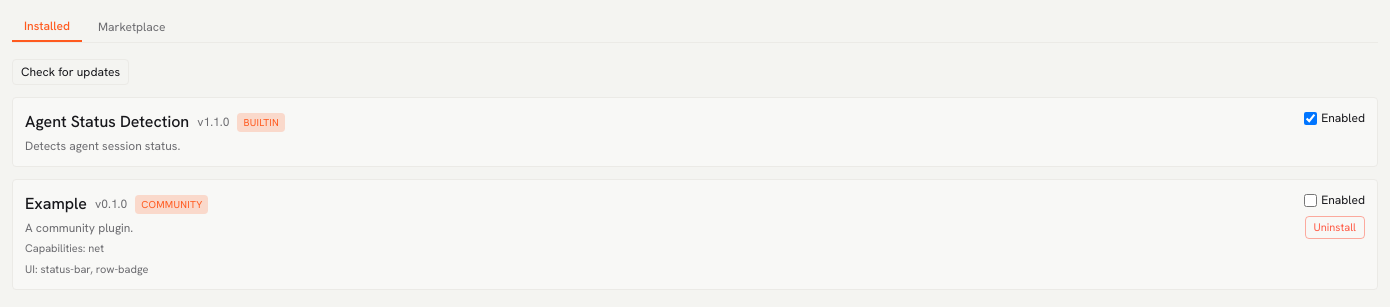
Test: PluginsSettings › Search GitHub surfaces a discovery error (e.g. rate limit)
The width and height of the screenshot is (1390, 307).
Click the tab with test id "plugins-tab-marketplace". click: (132, 27)
box: [86, 12, 178, 42]
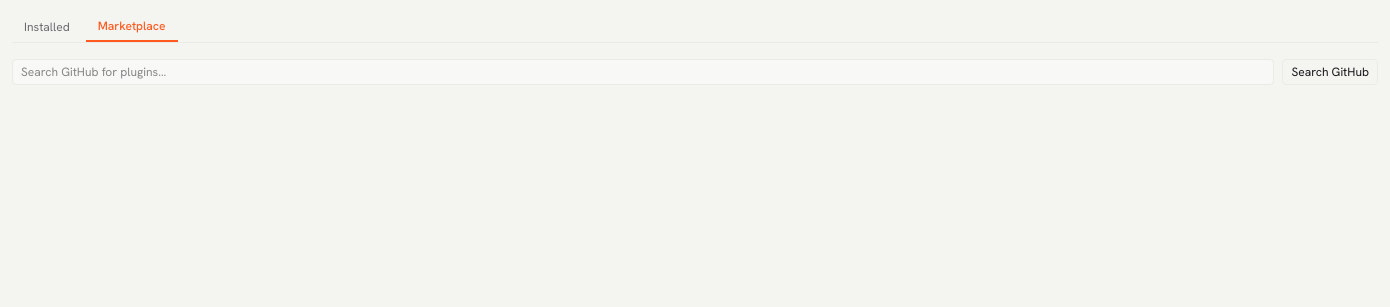
Click the button with test id "plugins-discover". click: (1330, 72)
box: [1282, 59, 1378, 85]
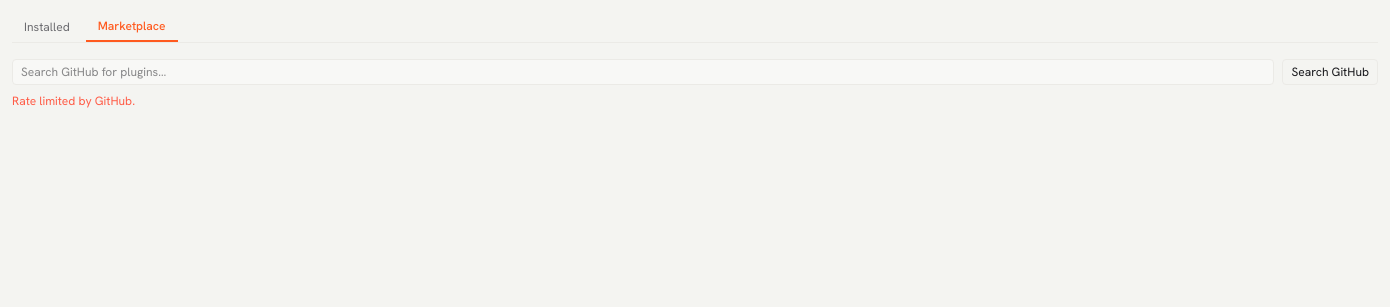
Expected: the text with test id "plugins-discover-error" reads "Rate limited by GitHub.", [12, 93, 135, 109]
